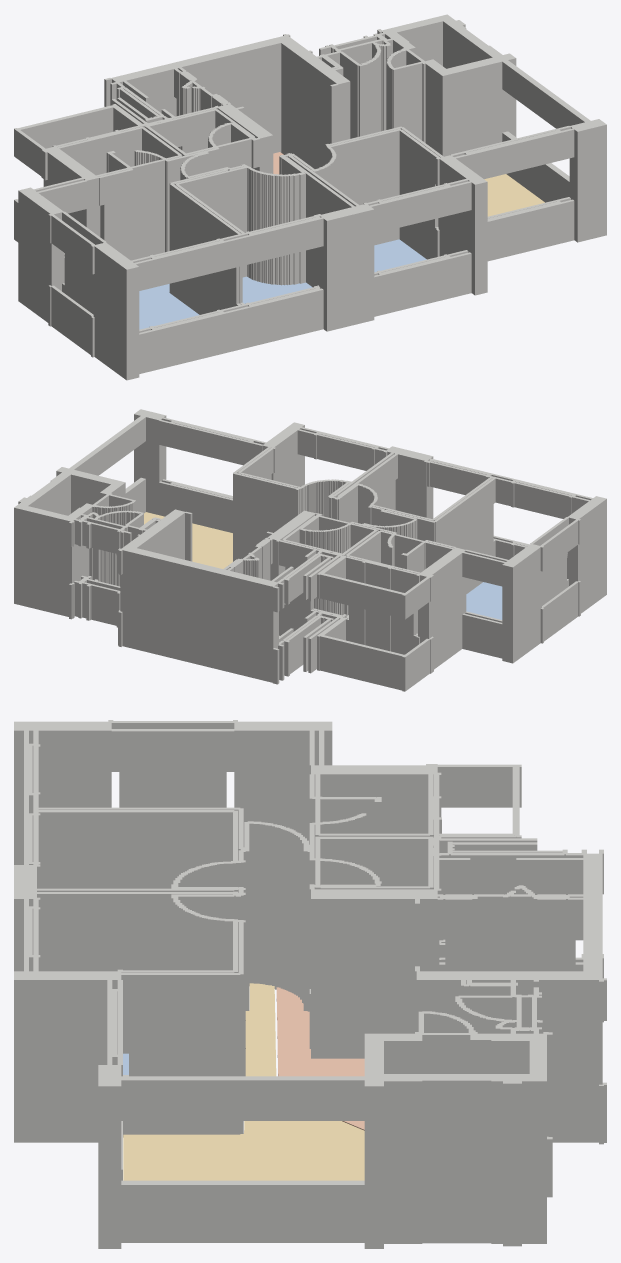
3 renders of one model, top to bottom at view 1: azimuth 30°, elevation 25°; view 2: azimuth 150°, elevation 25°; view 3: azimuth 270°, elevation 25°, orthographic. The views are drawn at different scales.
Visible parts, largest first — view 1: walls, room:bedroom:7, room:living:4, room:bedroom:3, room:bedroom:6; view 2: walls, room:living:4, room:bedroom:7; view 3: walls, room:living:4, room:kitchen:5.
Boxes of the visible parts, <box> form: walls: <box>14,14,606,380</box>; room:bedroom:7: <box>139,284,199,329</box>; room:living:4: <box>484,174,544,216</box>; room:bedroom:3: <box>374,239,426,272</box>; room:bedroom:6: <box>242,276,312,303</box>; walls: <box>14,409,606,691</box>; room:living:4: <box>144,512,232,568</box>; room:bedroom:7: <box>466,582,502,619</box>; walls: <box>14,720,606,1248</box>; room:living:4: <box>123,983,364,1180</box>; room:kitchen:5: <box>276,987,364,1130</box>.
Size of the model in its own units: 13.52 by 2.8 by 9.26.
